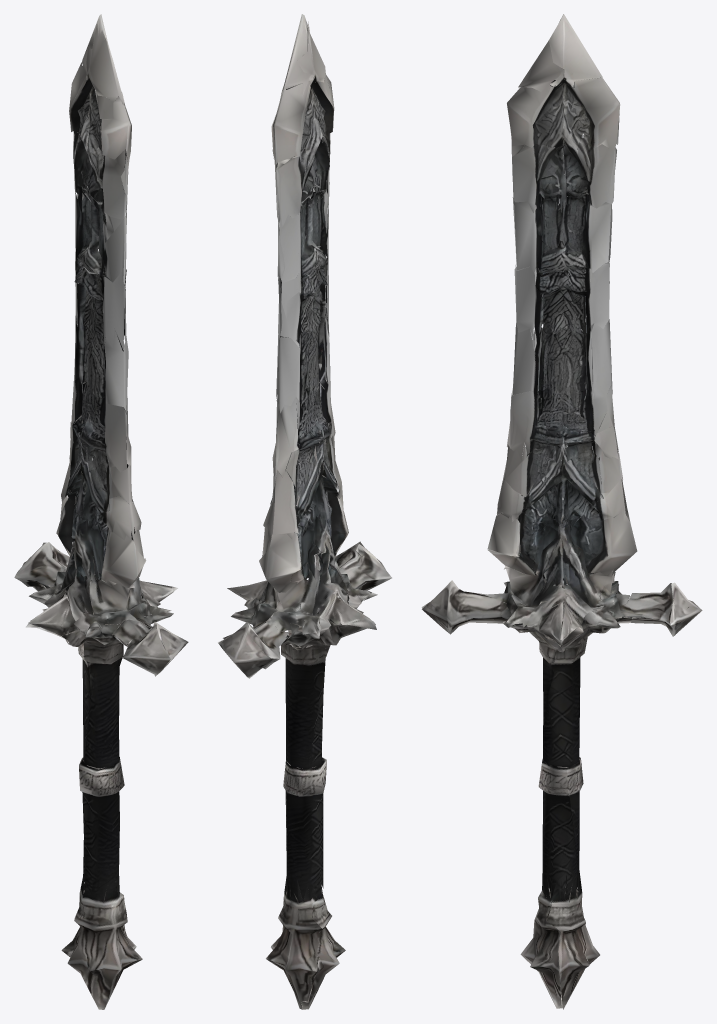
The model's file is Weapon_T8.fbx.
3 views of the same model, side by side, from view 1: azimuth 30°, elevation 25°; view 2: azimuth 150°, elevation 25°; view 3: azimuth 270°, elevation 25° (orthographic).
Parts seen in each view (by area): view 1: Vanguard_Weapon; view 2: Vanguard_Weapon; view 3: Vanguard_Weapon.
Part boxes in pixels (bbox=[...]): Vanguard_Weapon: bbox=[14, 14, 188, 1009]; Vanguard_Weapon: bbox=[217, 14, 391, 1009]; Vanguard_Weapon: bbox=[421, 14, 702, 1009].
Size of the model in its own units: 0.16 by 1 by 0.2564.
